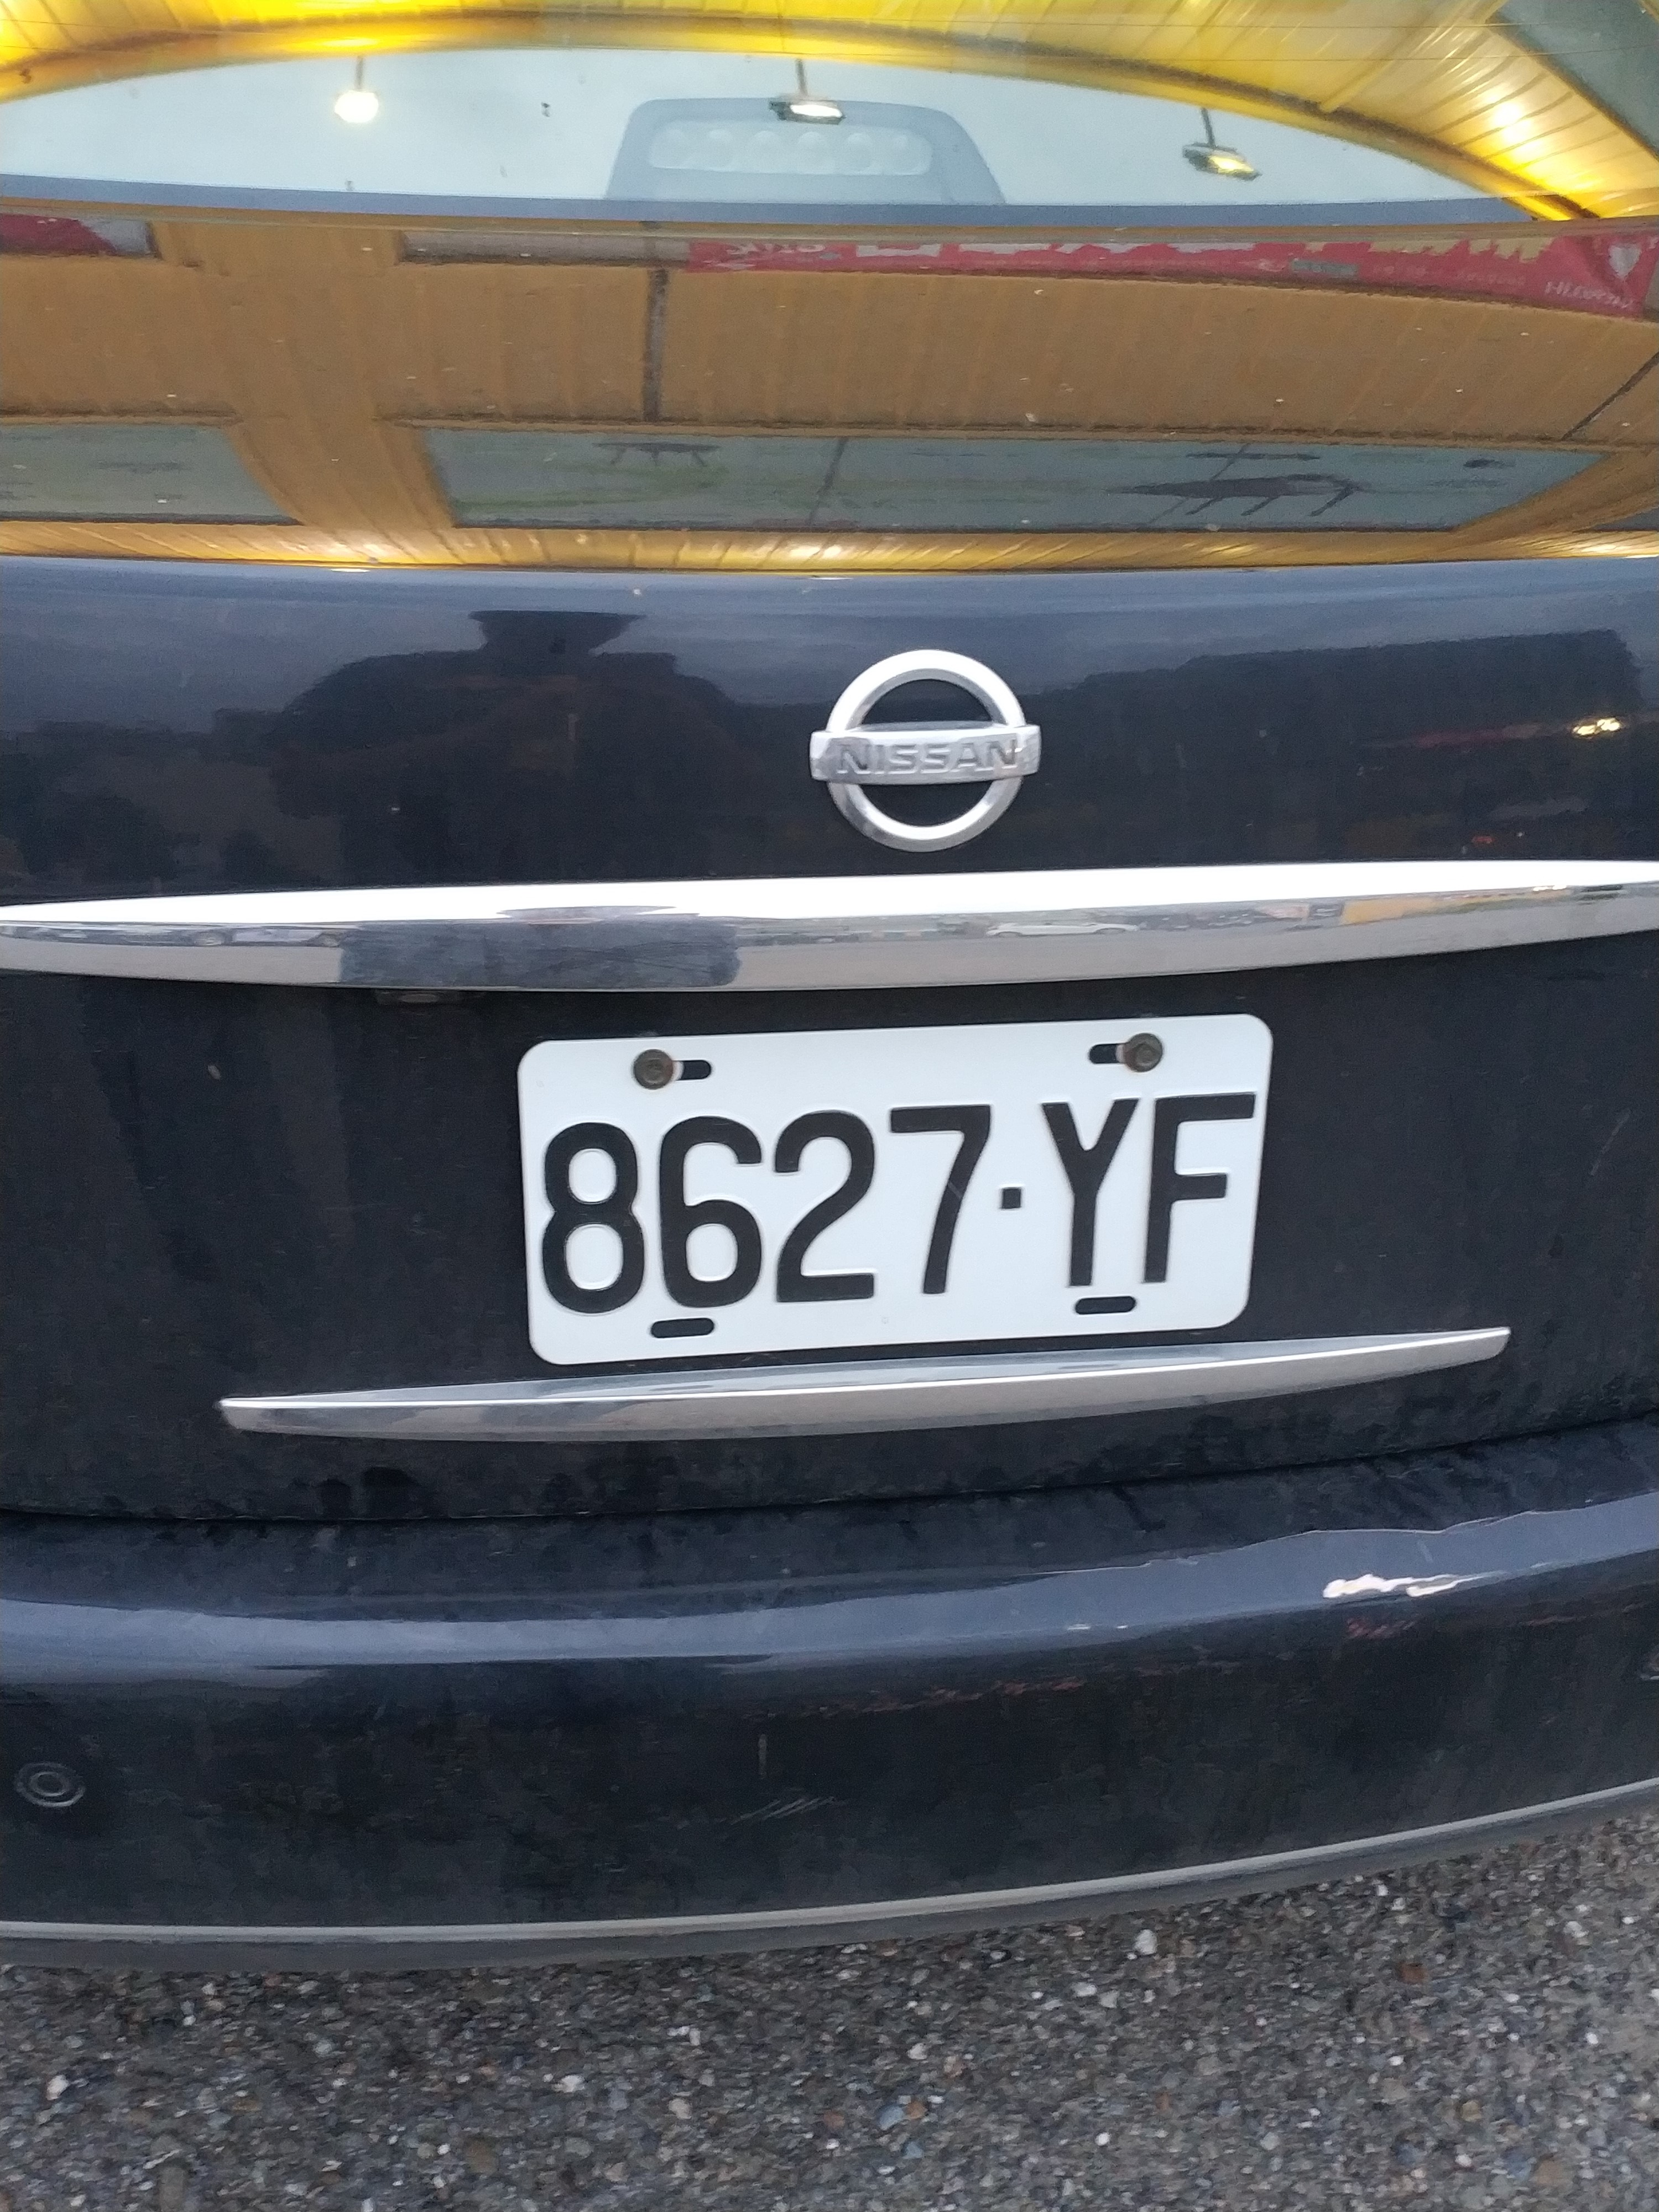car: (2, 10, 1659, 1942)
car_card: (523, 1007, 1277, 1348)
